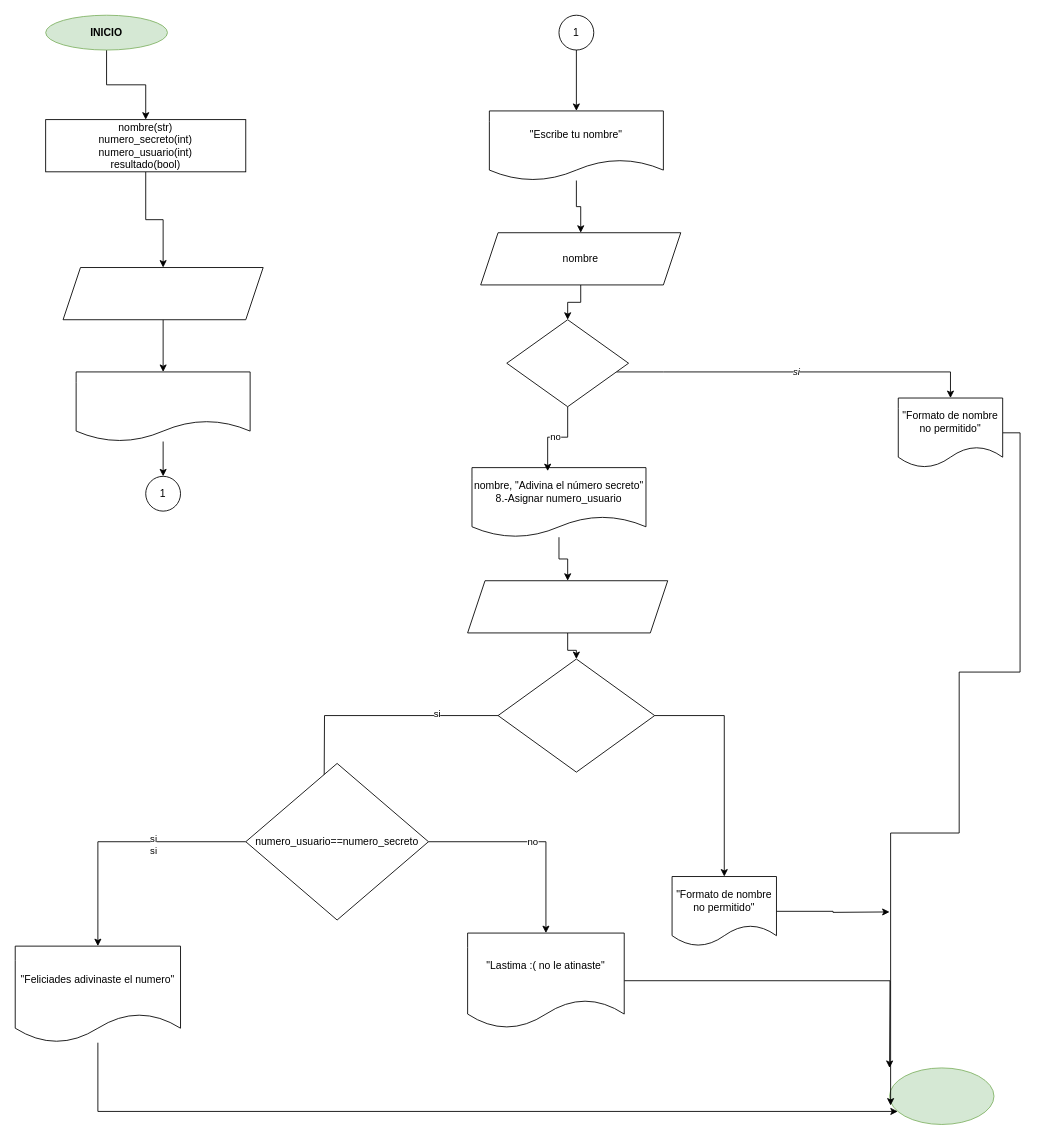
Image size: 1042x1140. Some labels were removed from this diagram. The centre of each missing label's shape, as x and y in pixels:
"*"*5,"BIENVENIDO AL JUEGO DE ADIVINAR EL NUMERO", "*"*5: point 162,406
Fin: point 941,1095
longitud(nombre)>=18: point 567,363
numero_secreto=ramdom(1,100)): point 162,293
numero_usuario: point 567,606
numero_usuario>0 & numero_usuario<60: point 576,715
